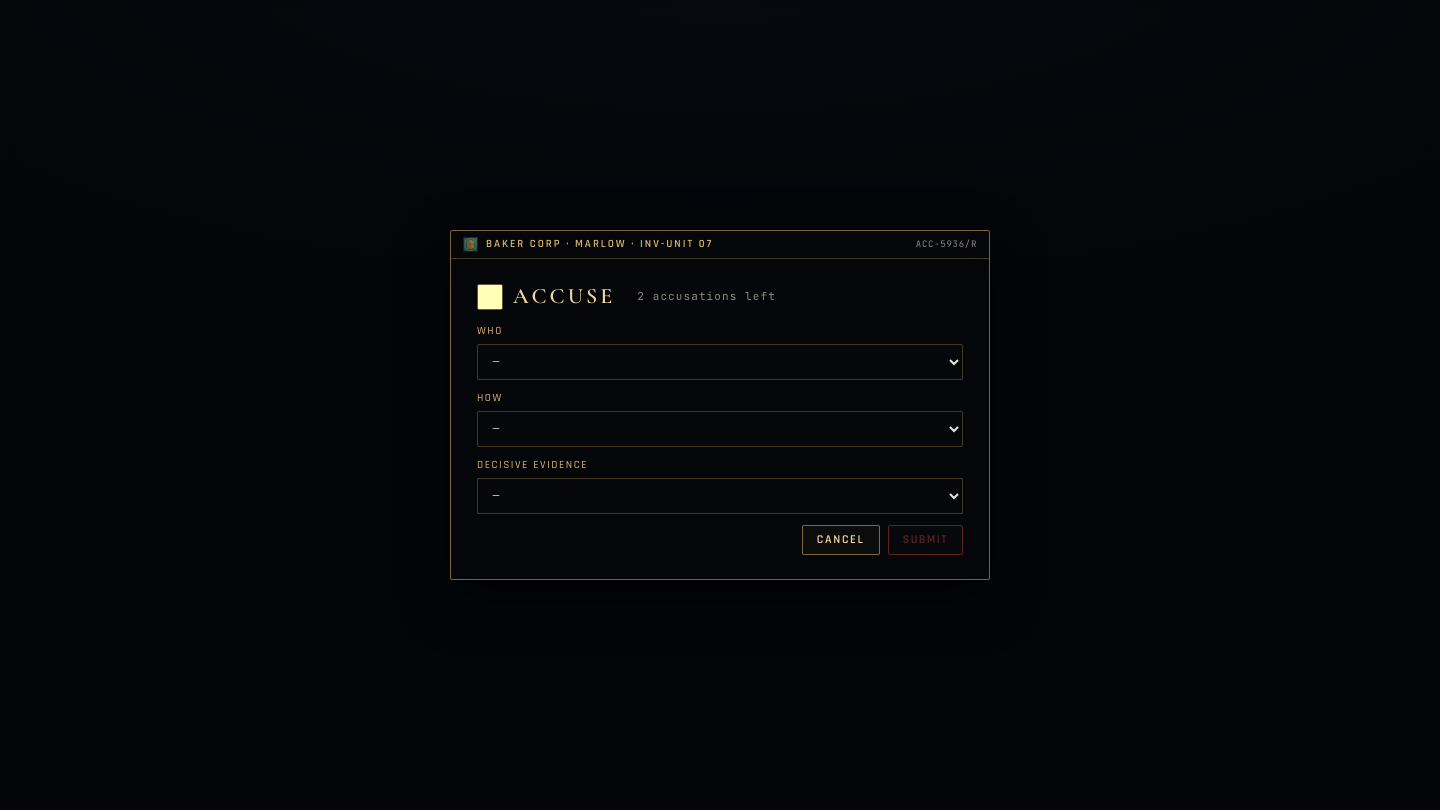
accuse dialog › three selects, coarse miss count reported (never the slot), second miss ends the case
Select "Ada · Engineer" in the dropdown labelled "Who" at (720, 362), box top-left (477, 344), bottom-right (963, 380)
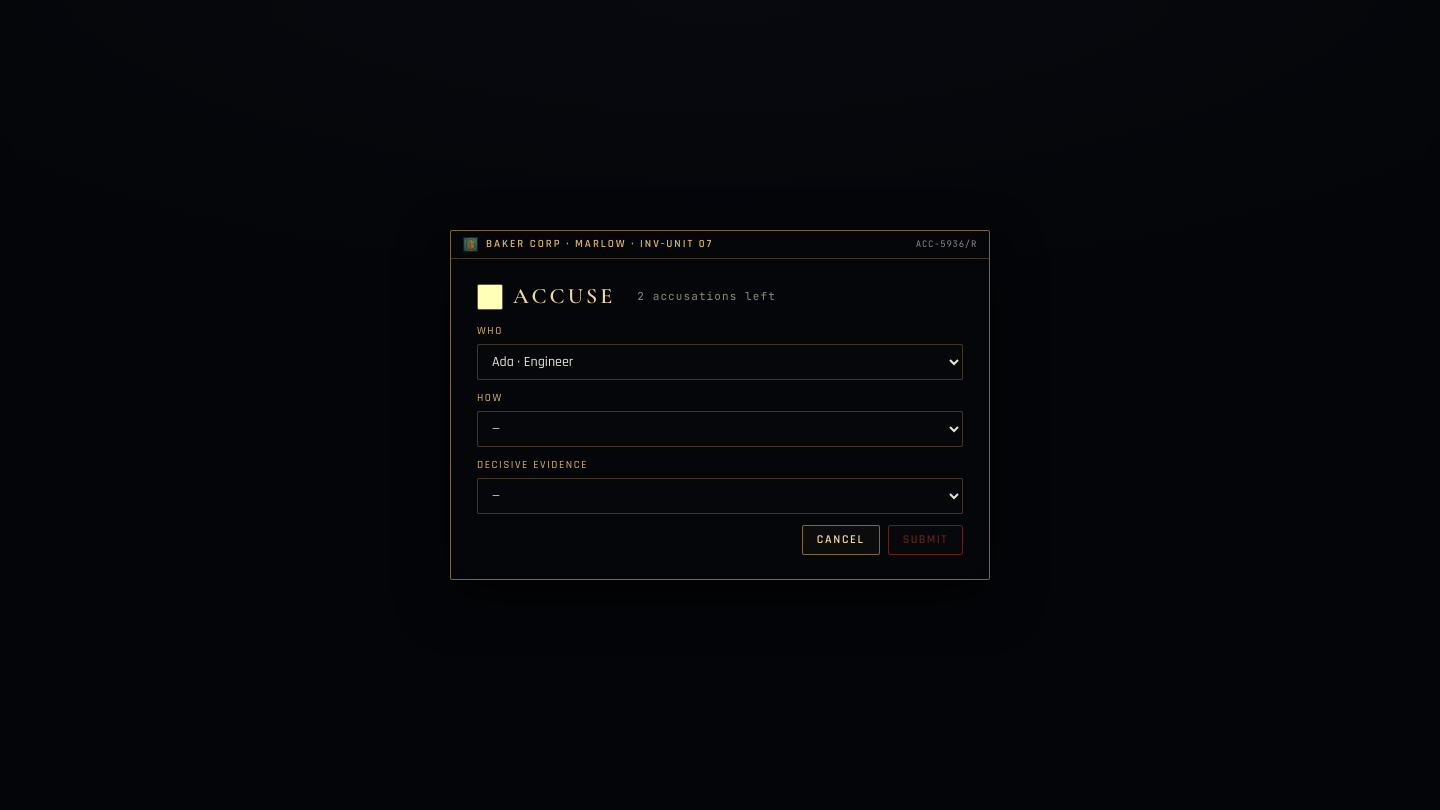
Select "Sold it" in the dropdown labelled "How" at (720, 429), box top-left (477, 411), bottom-right (963, 447)
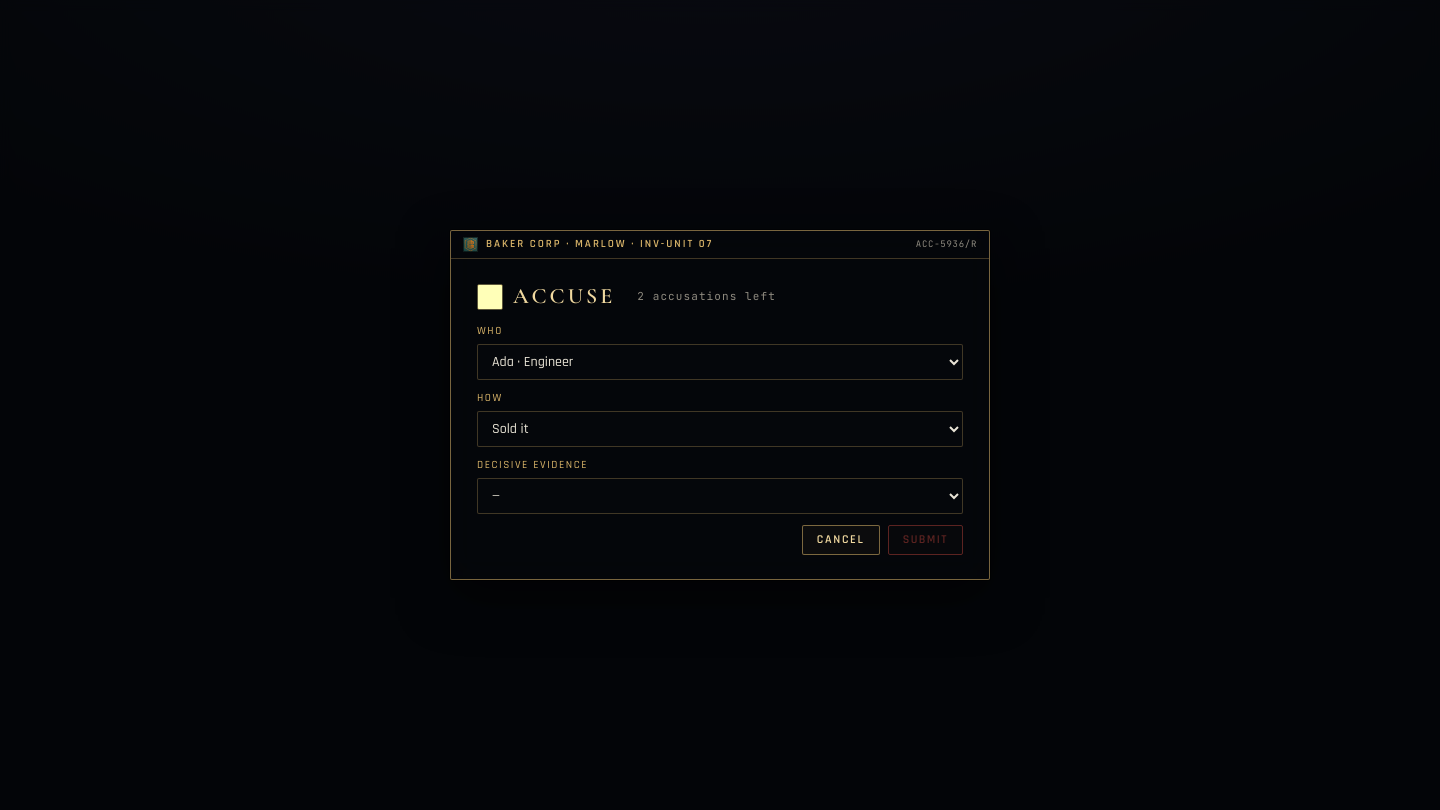
Select "Grease print" in the dropdown labelled "Decisive evidence" at (720, 496), box top-left (477, 478), bottom-right (963, 514)
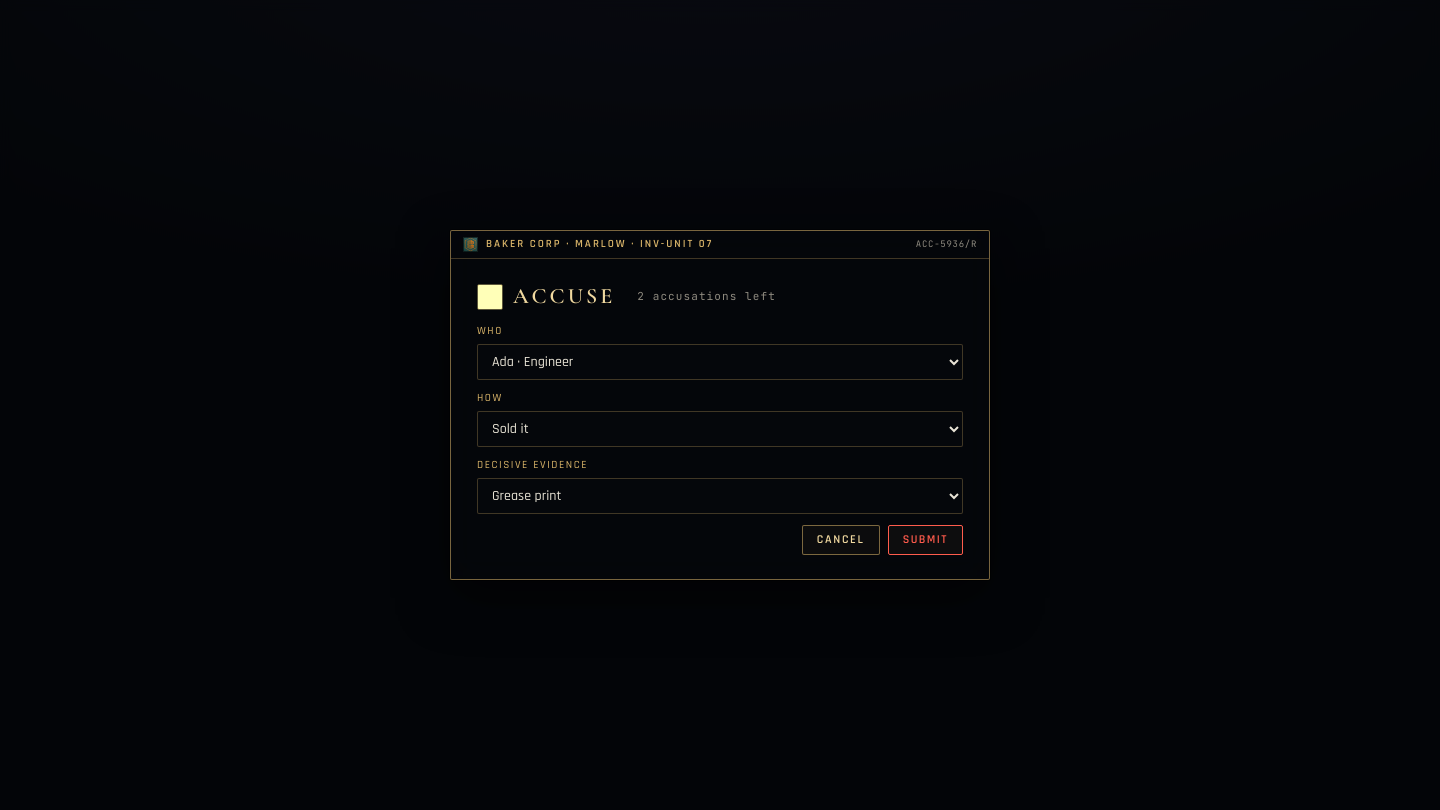
Click the button "Submit" at (925, 540), box top-left (888, 525), bottom-right (963, 555)
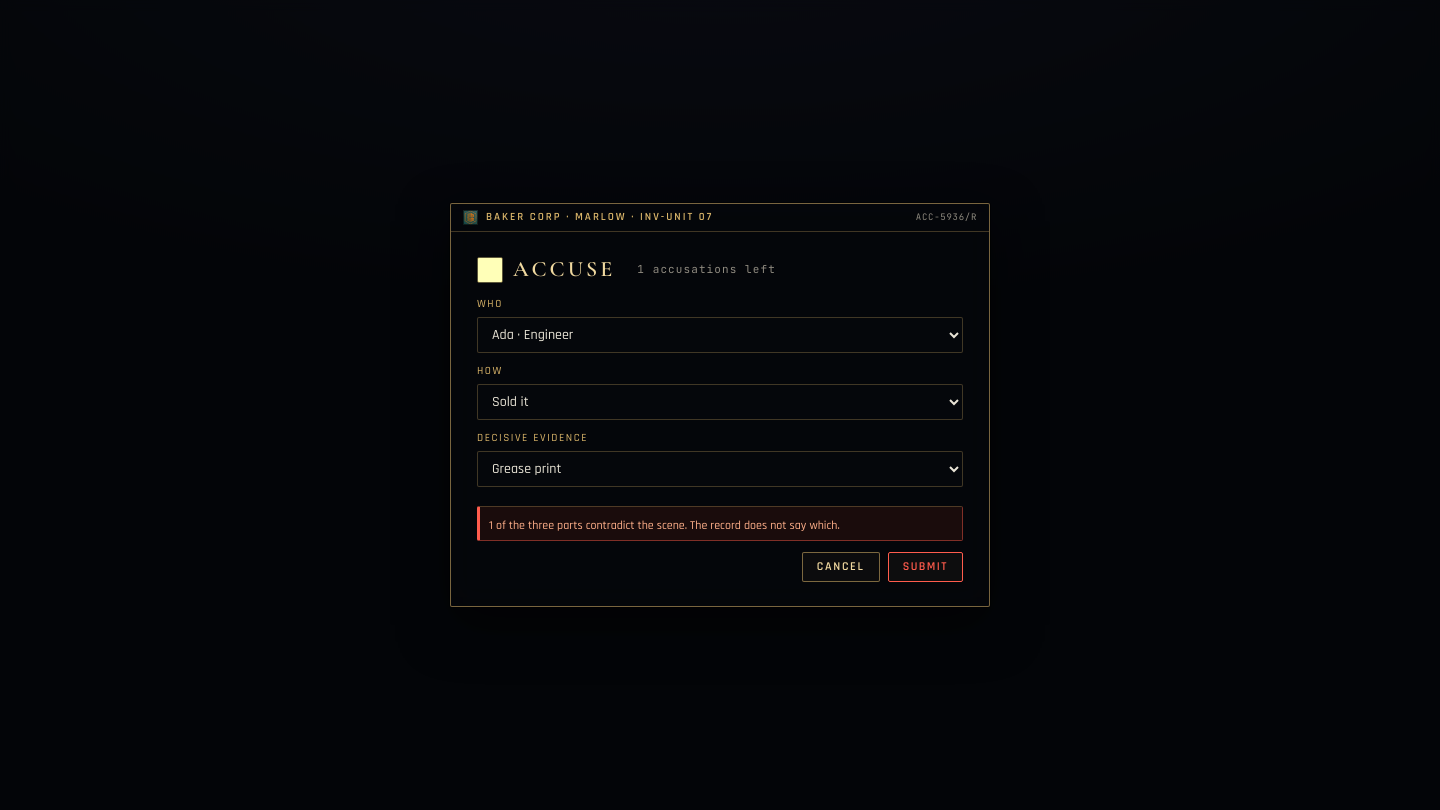
Expected: the message does not show "How"
Expected: the message shows "1 of the three parts", top-left (489, 518), bottom-right (840, 533)
